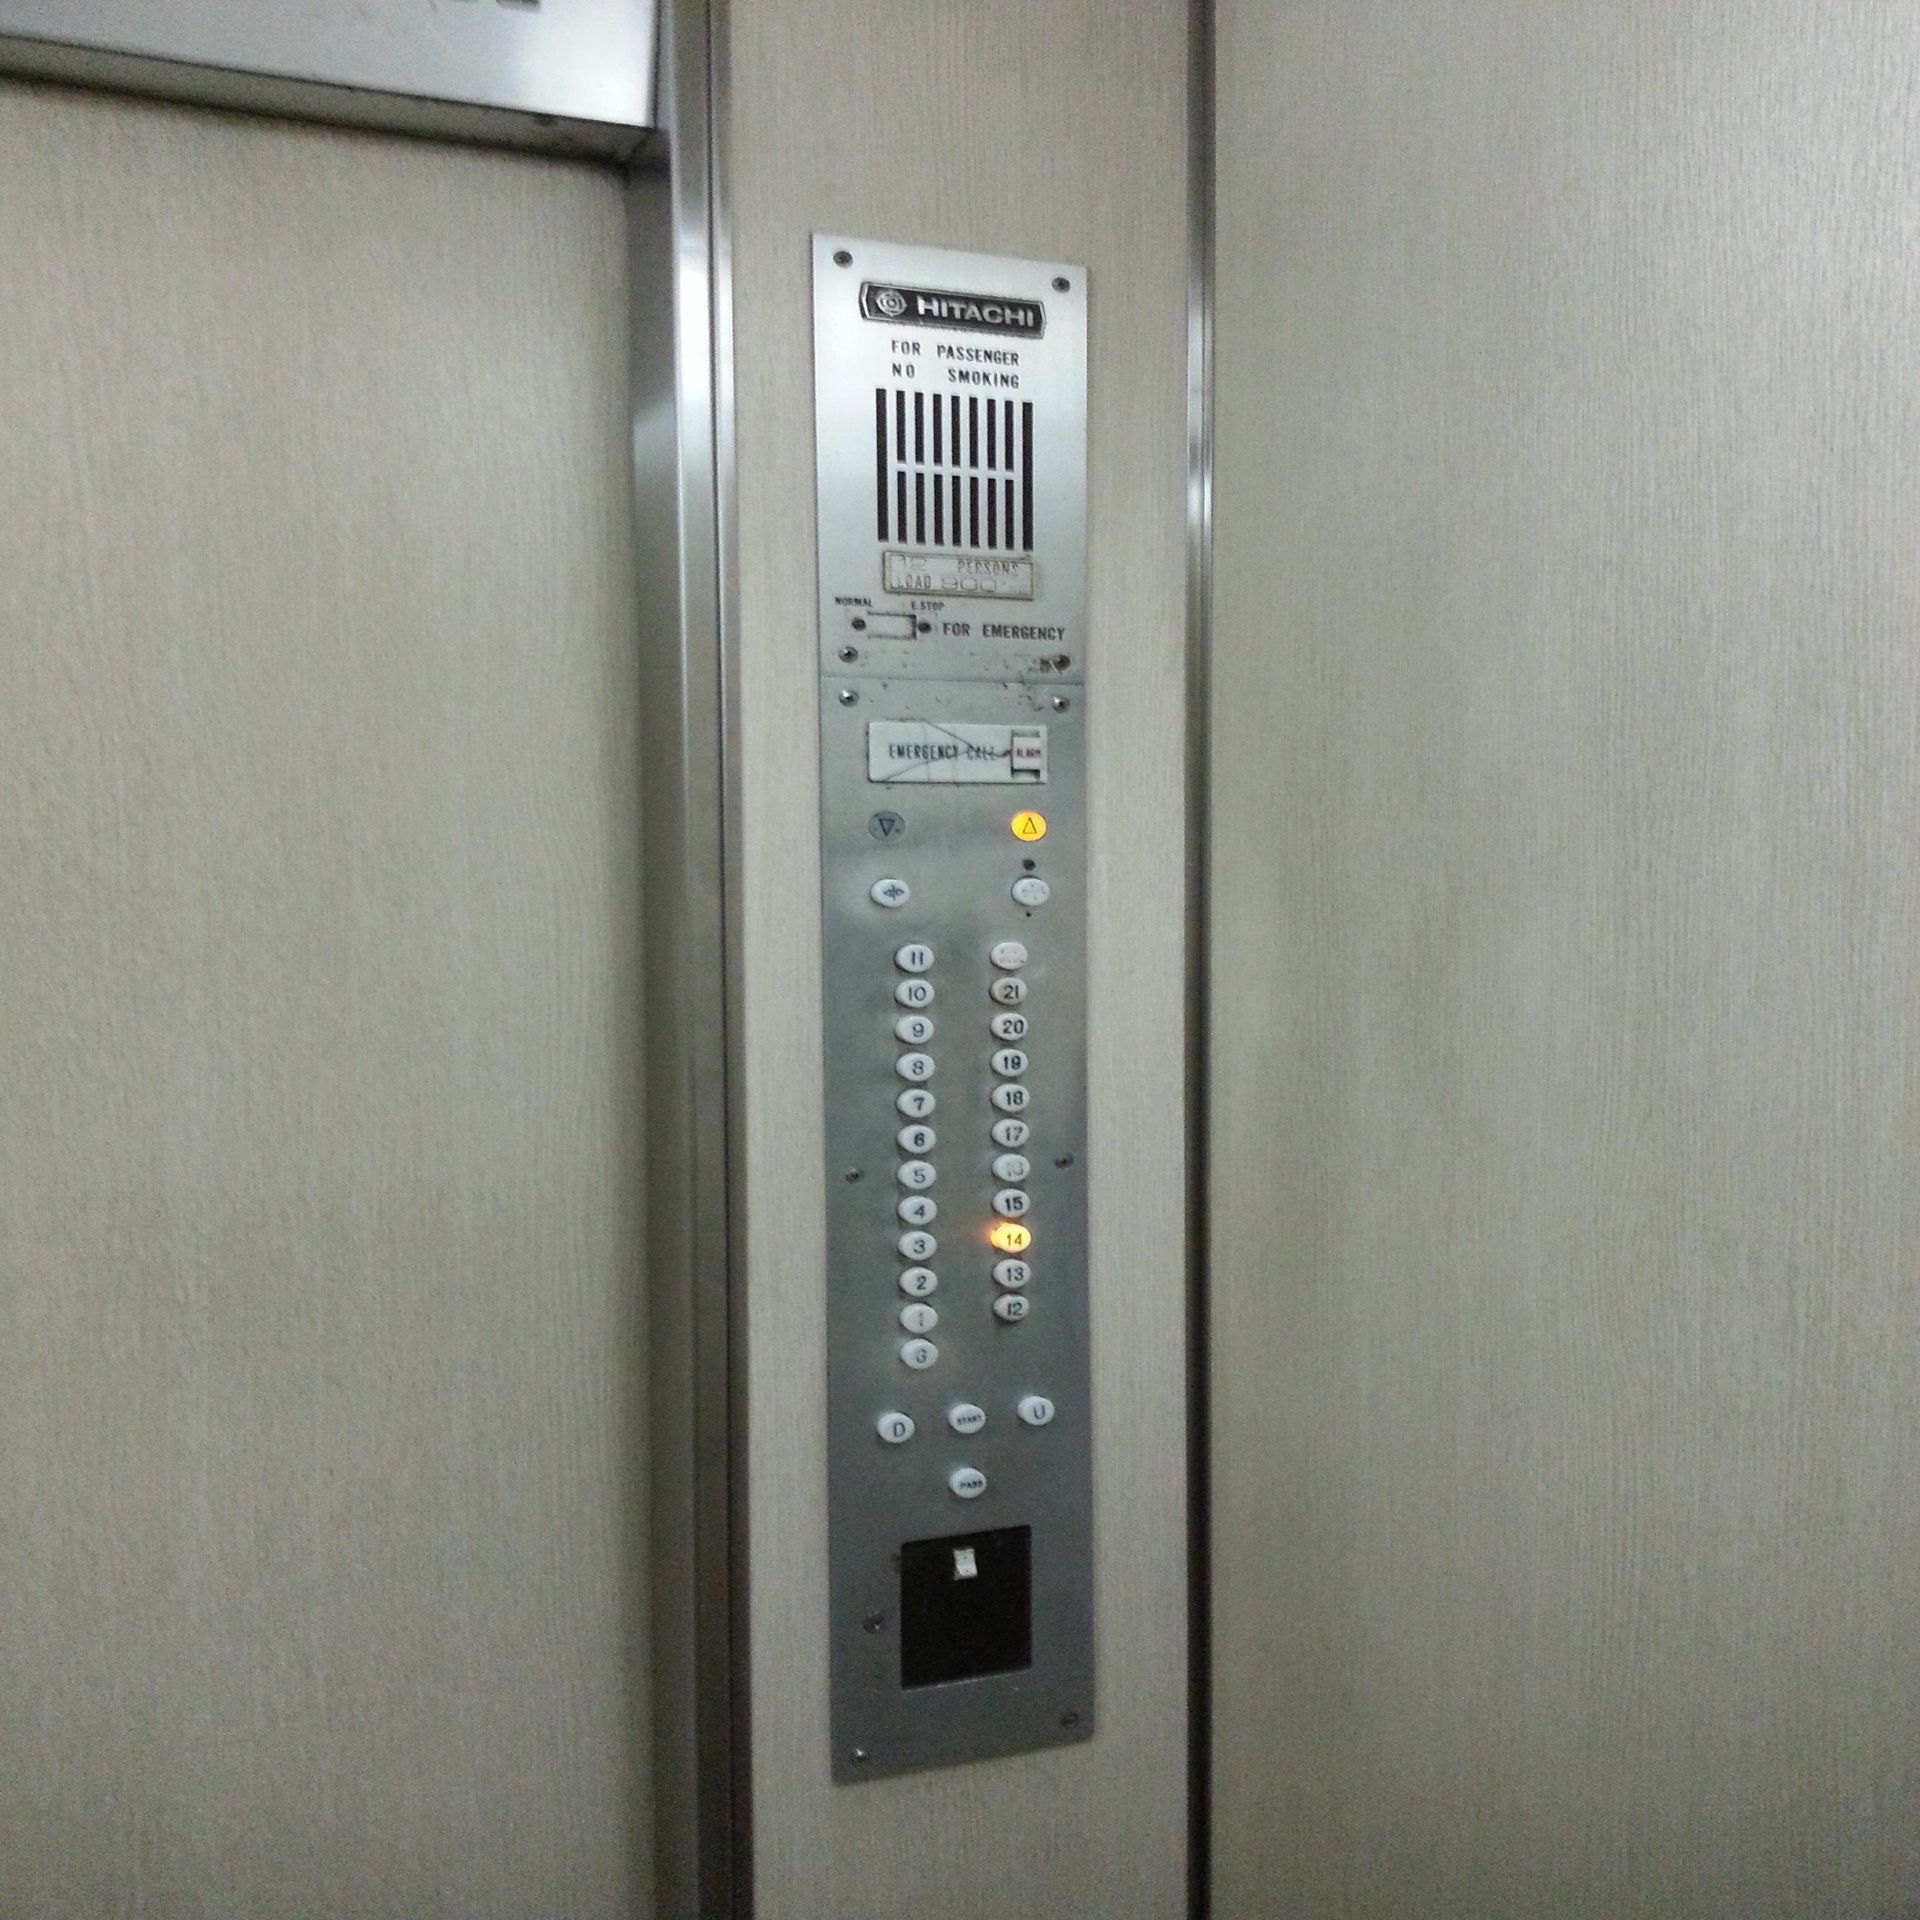1: (898, 1303, 941, 1335)
10: (893, 979, 937, 1007)
11: (893, 942, 934, 972)
12: (992, 1294, 1034, 1322)
13: (993, 1257, 1030, 1287)
14: (992, 1222, 1032, 1252)
15: (992, 1189, 1030, 1218)
16: (992, 1153, 1030, 1182)
17: (990, 1118, 1029, 1146)
18: (990, 1083, 1030, 1111)
19: (992, 1048, 1029, 1076)
2: (898, 1268, 937, 1298)
20: (990, 1011, 1030, 1041)
21: (988, 978, 1029, 1006)
22: (988, 942, 1027, 971)
3: (898, 1231, 937, 1261)
4: (897, 1196, 937, 1224)
5: (897, 1160, 935, 1189)
6: (897, 1124, 937, 1152)
7: (895, 1088, 937, 1116)
8: (893, 1051, 935, 1080)
9: (895, 1015, 934, 1043)
D: (876, 1412, 916, 1444)
G: (900, 1338, 939, 1370)
U: (1018, 1394, 1055, 1426)
close: (1011, 876, 1051, 907)
down: (869, 811, 907, 842)
empty: (862, 608, 918, 642)
open: (870, 877, 911, 911)
switch: (948, 1544, 979, 1584)
text: (948, 1405, 986, 1435)
text_PASS: (949, 1466, 986, 1500)
text_blur: (1009, 733, 1046, 774)
up: (1009, 811, 1048, 842)
